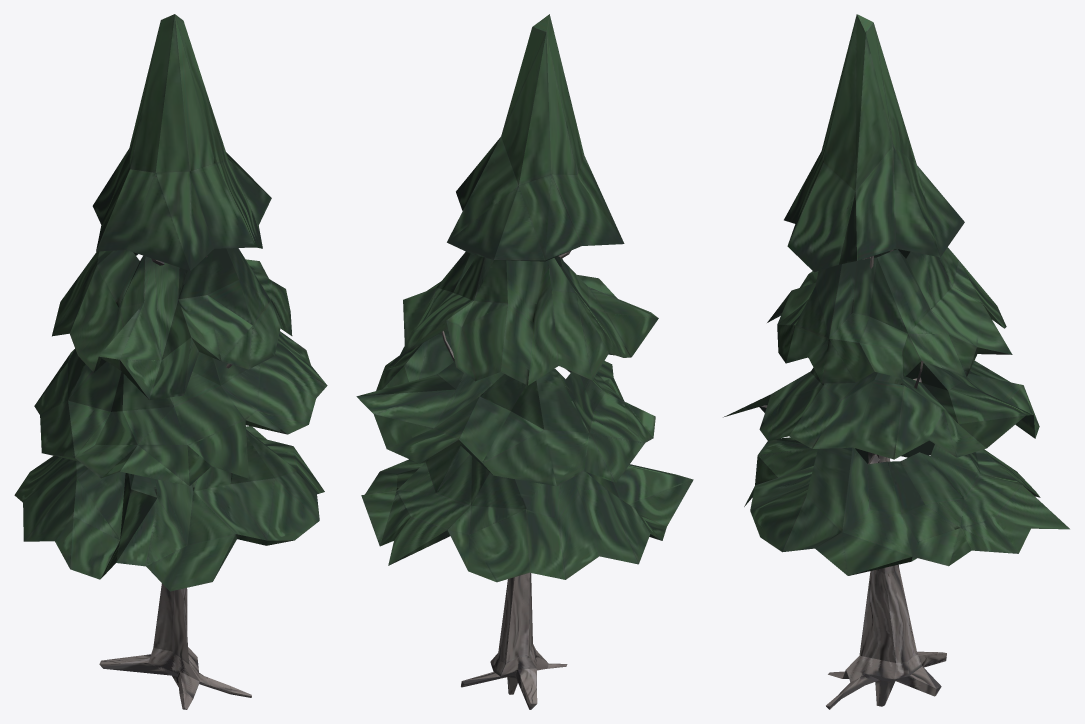
File: tree-spruce-low-poly.fbx
3 views of the same model, side by side, from view 1: azimuth 30°, elevation 25°; view 2: azimuth 150°, elevation 25°; view 3: azimuth 270°, elevation 25° (orthographic). The views are drawn at different scales.
Visible parts, largest first — view 1: tree; view 2: tree; view 3: tree.
Boxes of the visible parts, box(x1,y1,x2,y2) form: tree: box(14, 14, 327, 709); tree: box(356, 14, 693, 709); tree: box(723, 14, 1069, 709).
Bounding box in the file's own units: 402 × 989 × 460.
1 material, 1 textured.
